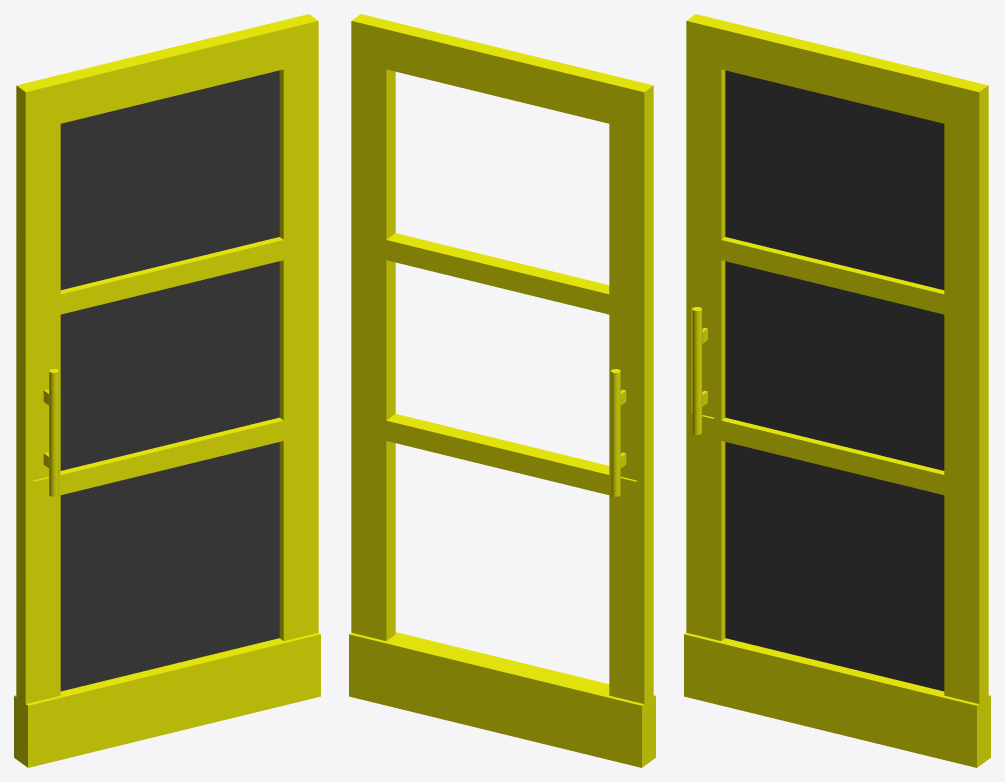
File: door-3.glb
3 views of the same model, side by side, from view 1: azimuth 30°, elevation 25°; view 2: azimuth 150°, elevation 25°; view 3: azimuth 330°, elevation 25° (orthographic).
Parts seen in each view (by area): view 1: Door_3; view 2: Door_3; view 3: Door_3.
Boxes of the visible parts, x1=… form: Door_3: x1=14, y1=14, x2=320, y2=767; Door_3: x1=349, y1=14, x2=655, y2=767; Door_3: x1=684, y1=14, x2=990, y2=767.
Bounding box in the file's own units: 1 × 2.2 × 0.1883.
2 materials, 1 textured.
